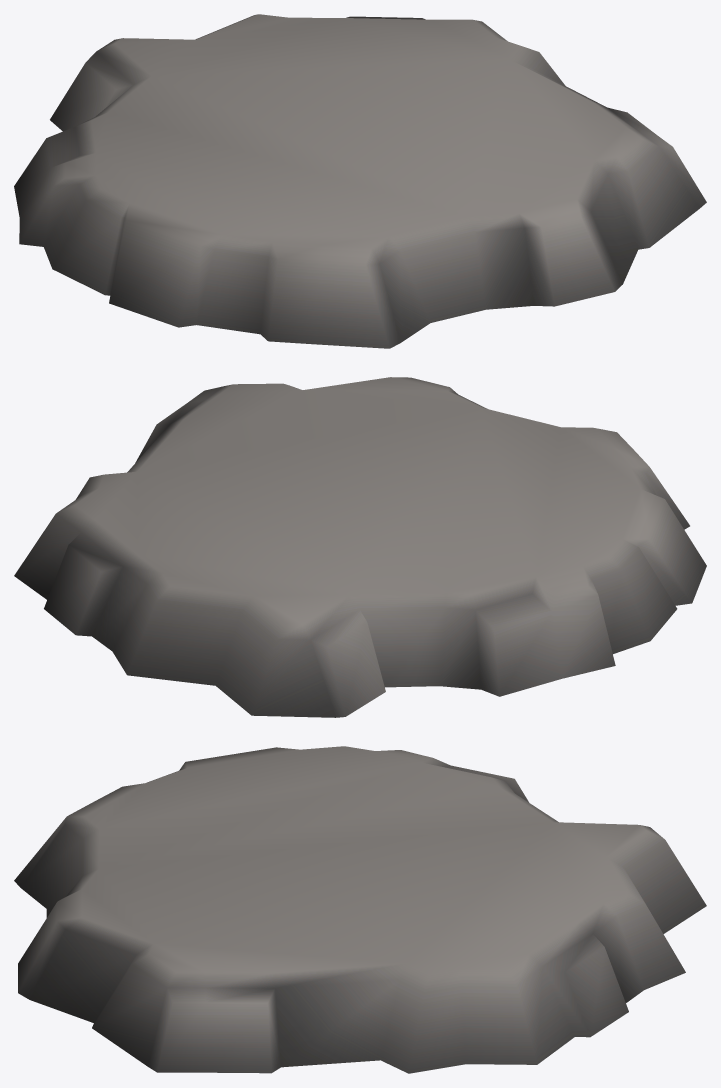
File: m_Platform01_A.fbx
3 views of the same model, one above another, from view 1: azimuth 30°, elevation 25°; view 2: azimuth 150°, elevation 25°; view 3: azimuth 270°, elevation 25° (orthographic).
Parts seen in each view (by area): view 1: m_Platform01_A; view 2: m_Platform01_A; view 3: m_Platform01_A.
Part boxes in pixels (x1=…): m_Platform01_A: x1=14, y1=14, x2=706, y2=348; m_Platform01_A: x1=14, y1=377, x2=706, y2=717; m_Platform01_A: x1=14, y1=746, x2=706, y2=1073.
Bounding box in the file's own units: 1648 × 200 × 1736.
